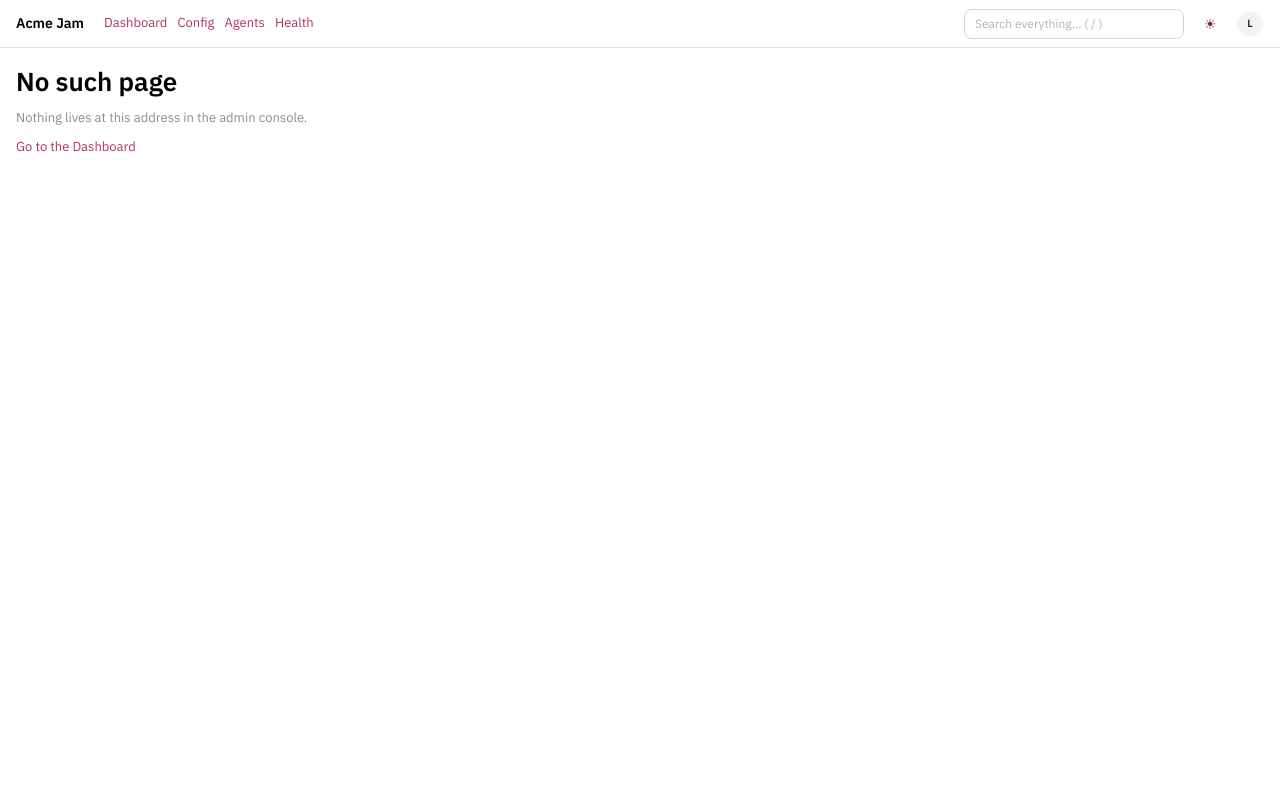
search › Enter with several shows the results, dropping go
The image size is (1280, 800).
Type "acme" into the search field labelled "Search" at [1074, 24], box [964, 8, 1184, 38]
Then press Enter
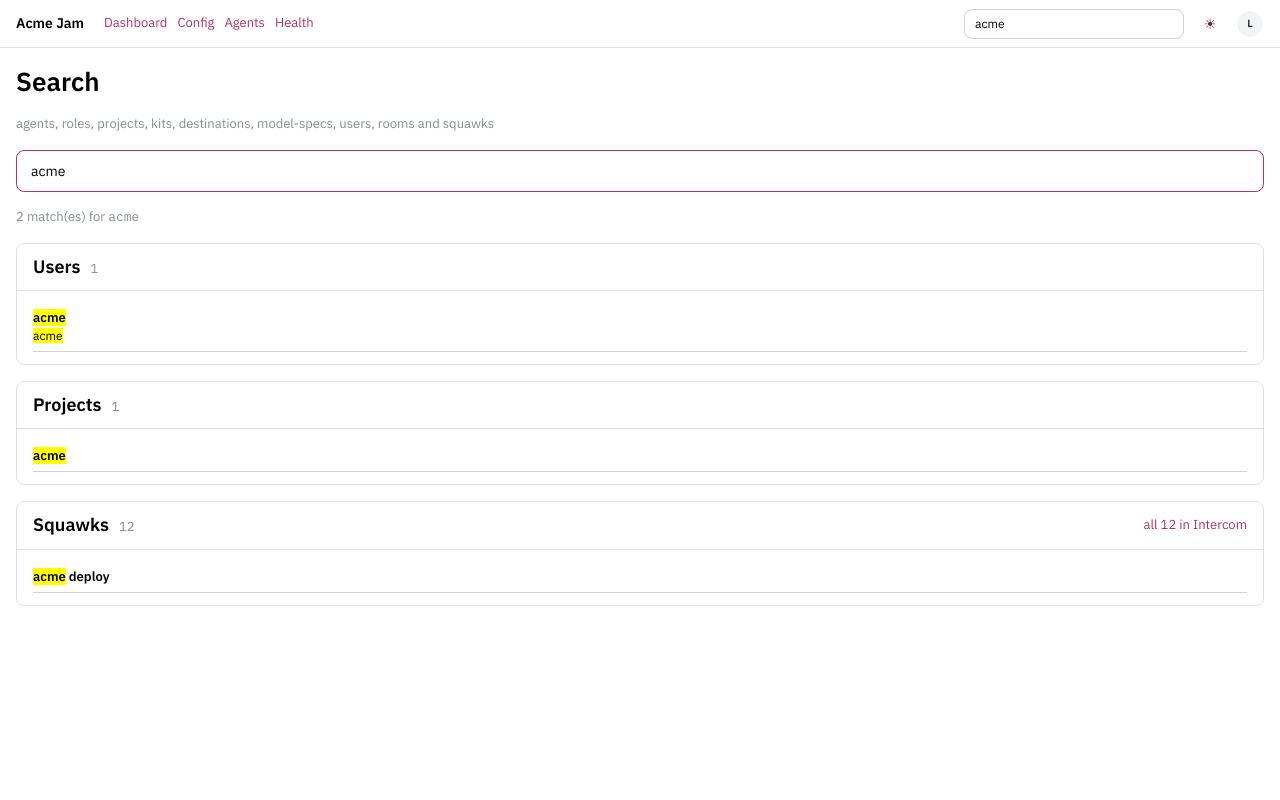
Expected: the text "2 match(es) for" is shown, [16, 208, 105, 225]
